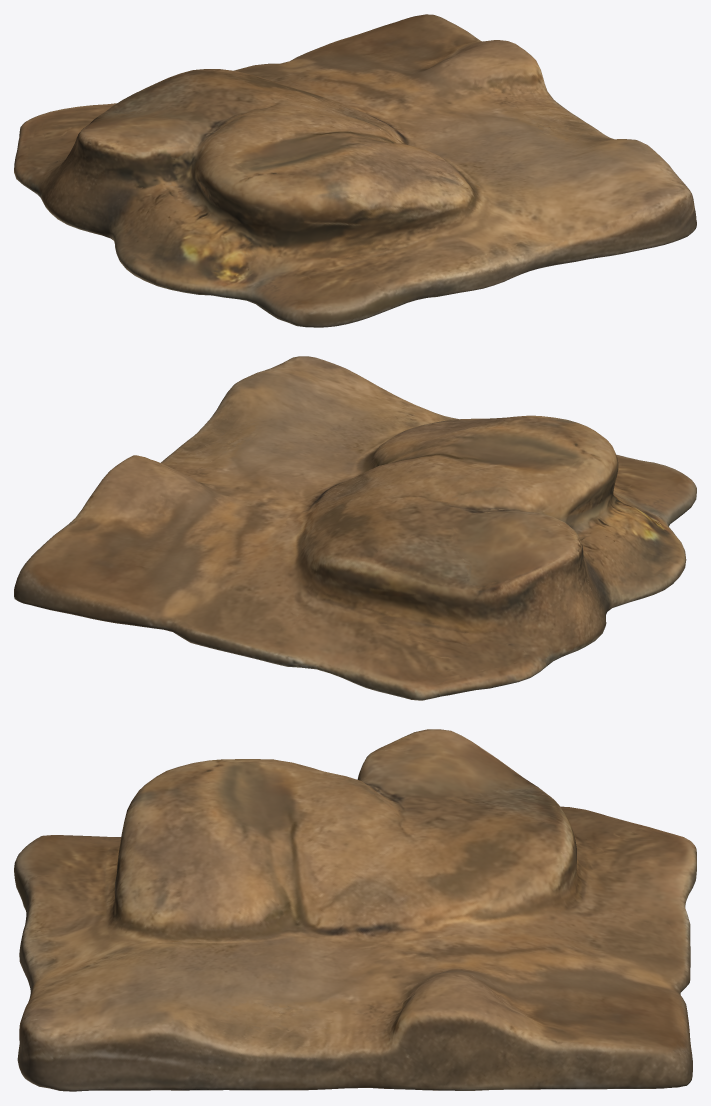
3 renders of one model, top to bottom at view 1: azimuth 30°, elevation 25°; view 2: azimuth 150°, elevation 25°; view 3: azimuth 270°, elevation 25°, orthographic. The views are drawn at different scales.
Parts seen in each view (by area): view 1: Mesh; view 2: Mesh; view 3: Mesh.
Part boxes in pixels (x1,y1,x2,y2): Mesh: [14, 14, 696, 327]; Mesh: [14, 356, 696, 700]; Mesh: [14, 729, 696, 1091].
Size of the model in its own units: 0.7184 by 0.1337 by 0.7362.
1 material, 1 textured.
